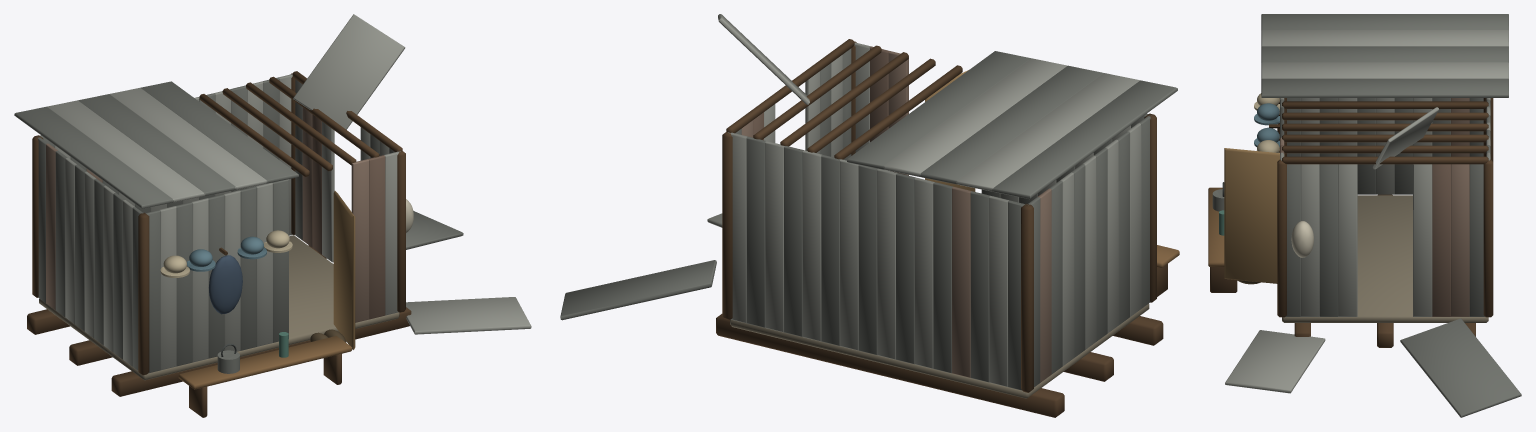
File: change_house_b_lod1.glb
3 renders of one model, left to right at view 1: azimuth 30°, elevation 25°; view 2: azimuth 150°, elevation 25°; view 3: azimuth 270°, elevation 25°, orthographic. The views are drawn at different scales.
Visible parts, largest first — view 1: Surface.001; view 2: Surface.001; view 3: Surface.001.
Boxes of the visible parts, <box> form: Surface.001: <box>14,14,531,417</box>; Surface.001: <box>560,14,1179,417</box>; Surface.001: <box>1208,14,1521,417</box>.
Bounding box in the file's own units: 7.03 × 4.07 × 4.56.
